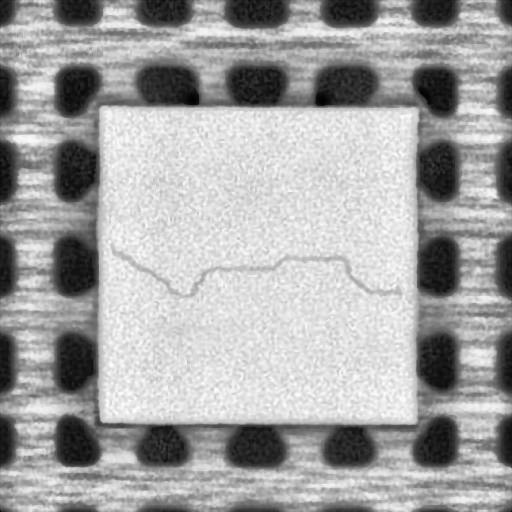DIE_CRACK: (110, 241, 401, 303)
